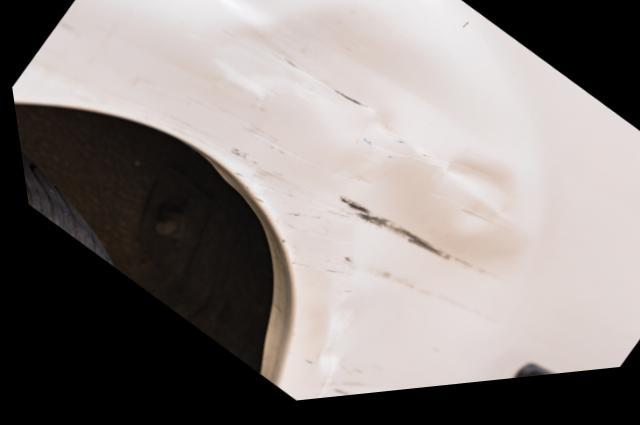dent: (209, 15, 520, 401)
scratch: (118, 77, 337, 287)
